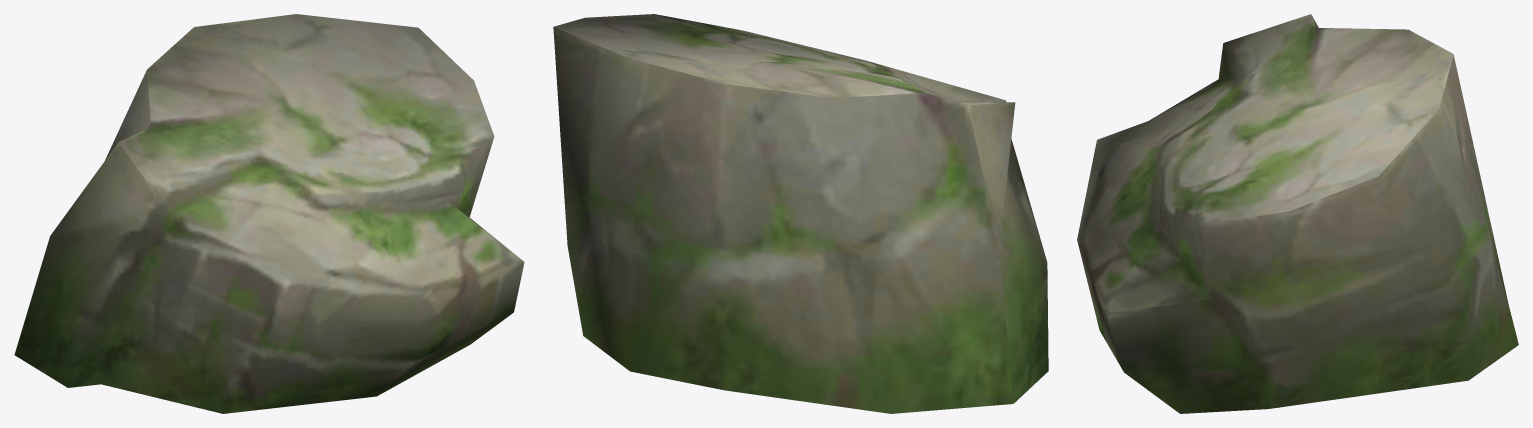
File: shitou_13.FBX
3 renders of one model, left to right at view 1: azimuth 30°, elevation 25°; view 2: azimuth 150°, elevation 25°; view 3: azimuth 270°, elevation 25°, orthographic. The views are drawn at different scales.
Visible parts, largest first — view 1: shitou_13; view 2: shitou_13; view 3: shitou_13.
Part boxes in pixels (left/top/right/bottom): shitou_13: left=14, top=14, right=524, bottom=413; shitou_13: left=553, top=14, right=1048, bottom=413; shitou_13: left=1077, top=14, right=1518, bottom=413.
Bounding box in the file's own units: 133 × 82.76 × 114.
